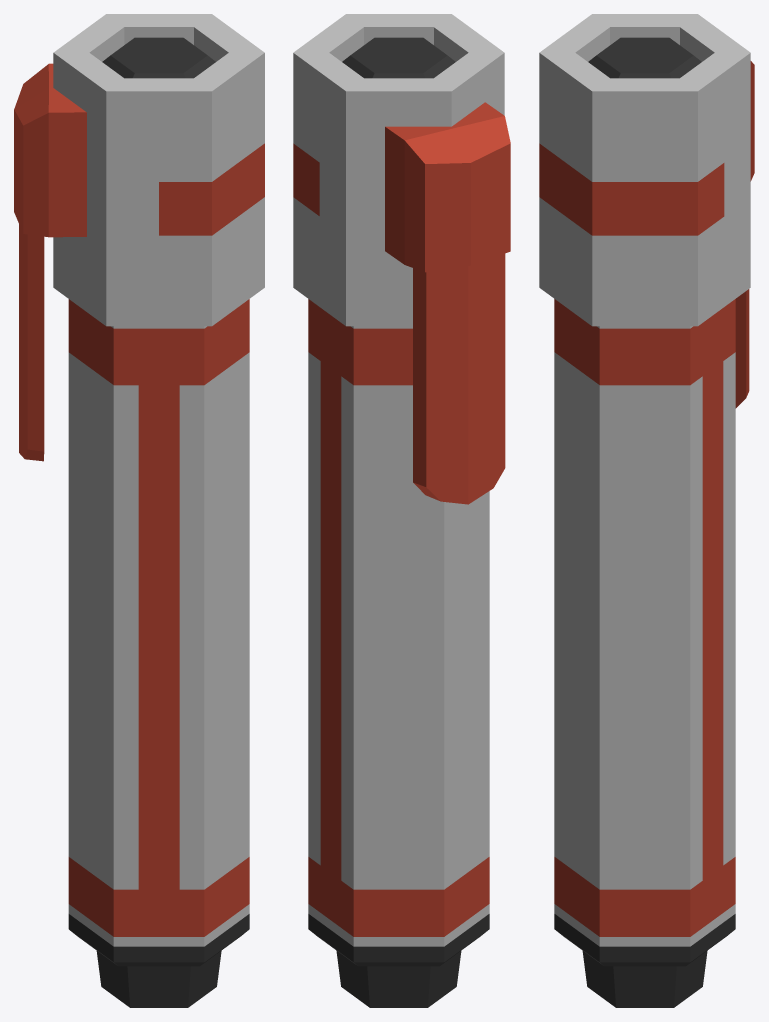
Rendered from Int_OfficeMarker01_1.fbx.
3 renders of one model, left to right at view 1: azimuth 30°, elevation 25°; view 2: azimuth 150°, elevation 25°; view 3: azimuth 270°, elevation 25°, orthographic.
Parts seen in each view (by area): view 1: Int_OfficeMarker01_1; view 2: Int_OfficeMarker01_1; view 3: Int_OfficeMarker01_1.
Part boxes in pixels (x1,y1,x2,y2): Int_OfficeMarker01_1: (14,14,264,1007); Int_OfficeMarker01_1: (293,14,510,1007); Int_OfficeMarker01_1: (539,14,754,1007).
Size of what is drawn, in the model's own units: 5.69 by 5.22 by 25.
